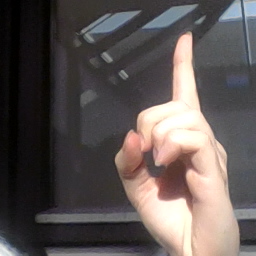D: (112, 30, 246, 256)
